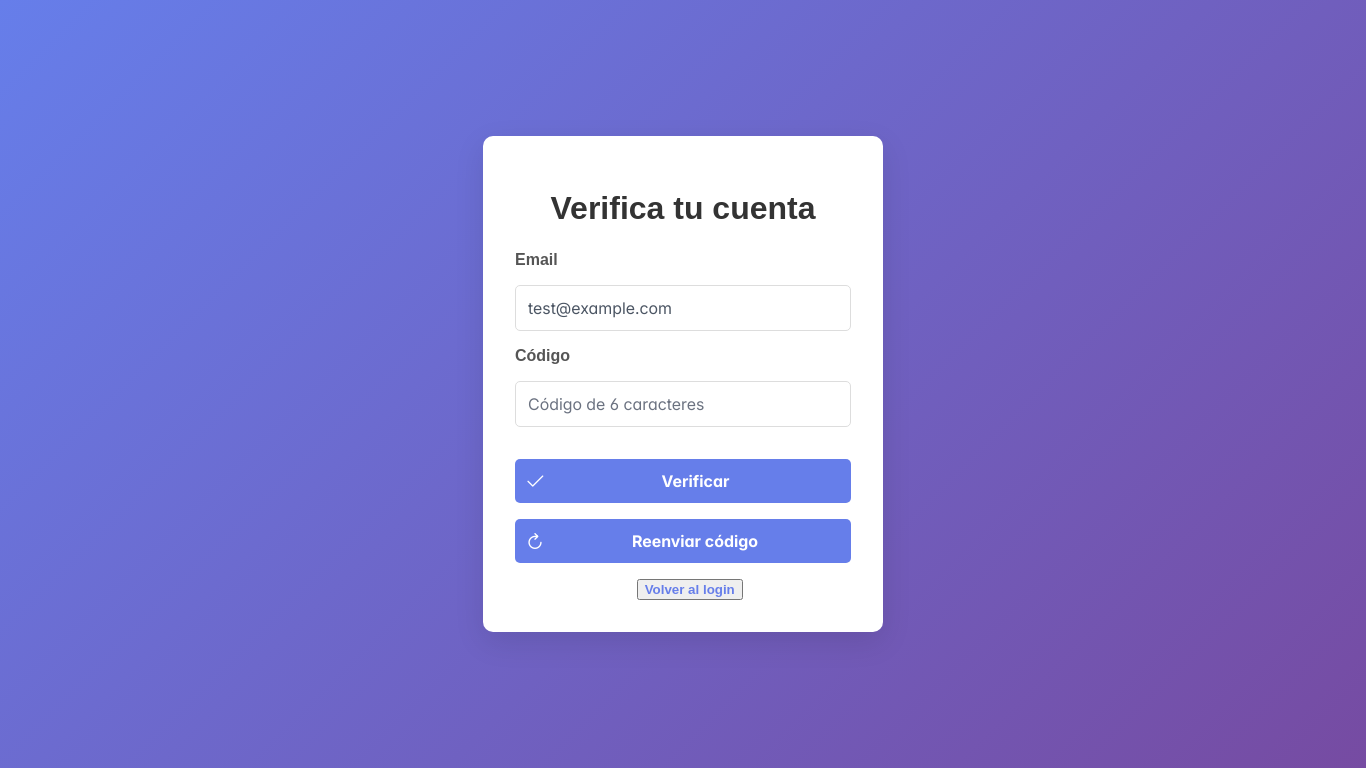
Test: Verify Component › shows warning on verify with missing email
Clear the field with placeholder "Ingresa tu email" at (683, 308), box [515,285,851,331]
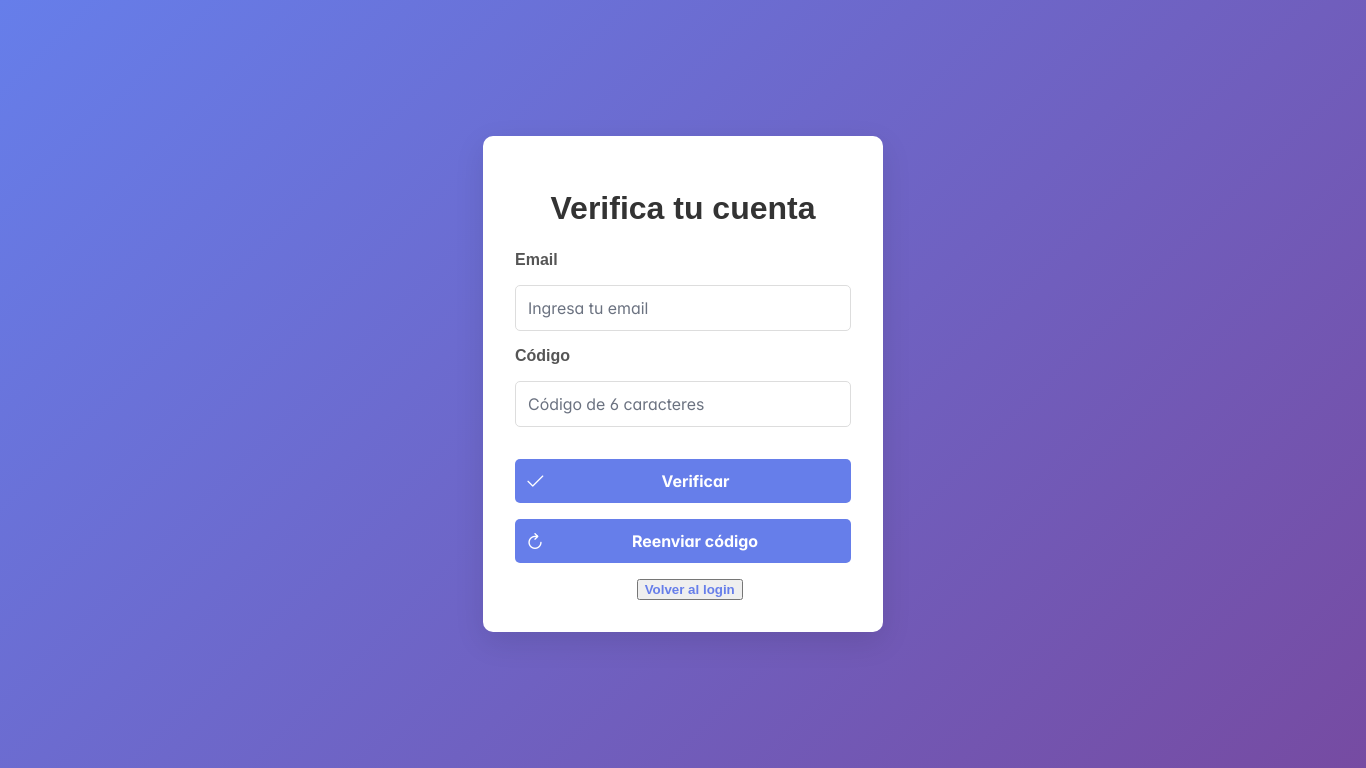
Type "123456" into the field with placeholder "Código de 6 caracteres" at (683, 404), box [515,381,851,427]
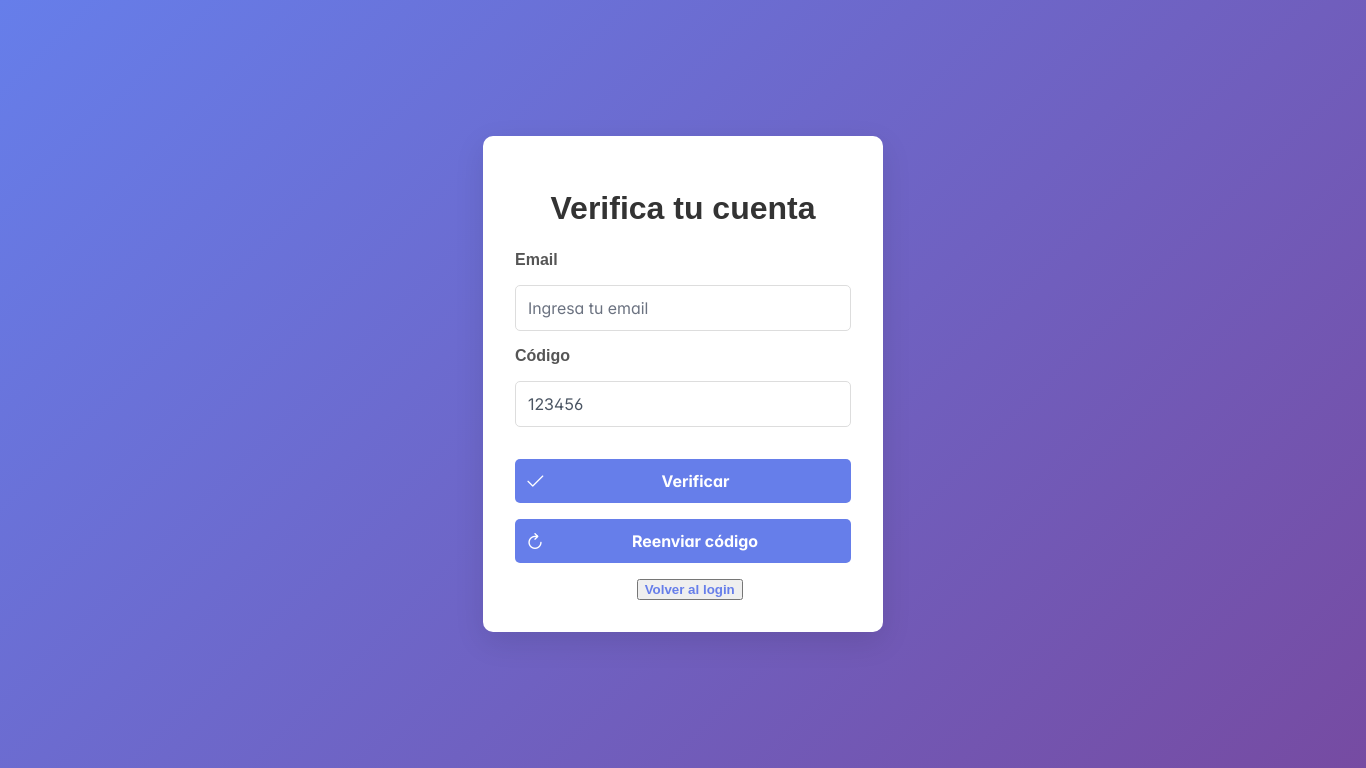
Click the button "Verificar" at (683, 481), box [515,459,851,503]
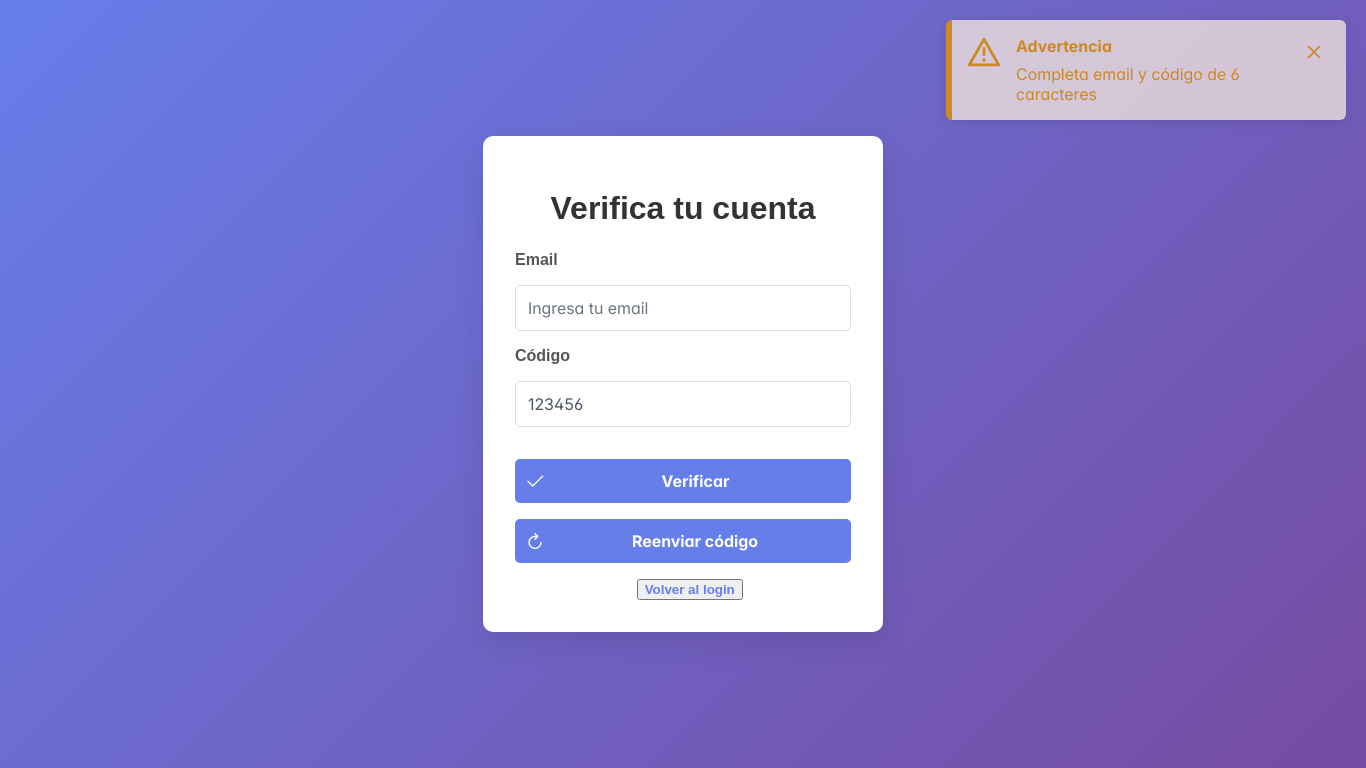
Now the text "Completa email y código de 6 caracteres" is shown, box [1016,64,1240,104]
